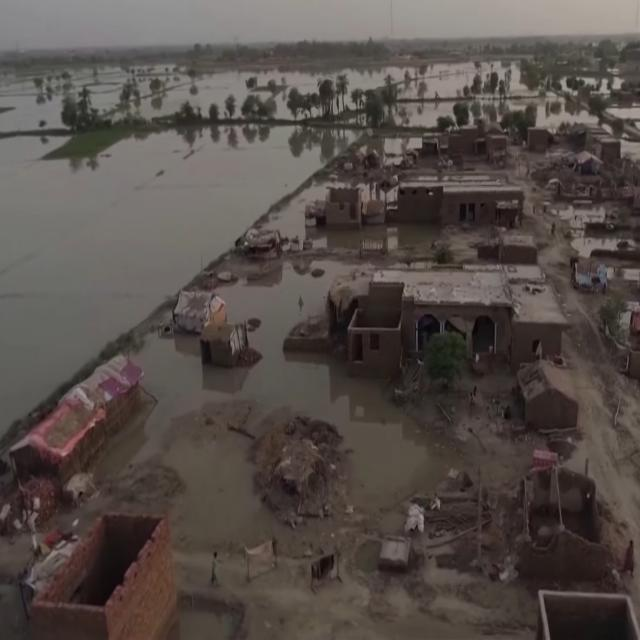flood: (0, 124, 361, 436), (95, 260, 452, 492), (0, 65, 333, 130), (345, 60, 598, 130), (265, 181, 389, 254), (172, 440, 259, 544), (382, 225, 446, 264), (395, 102, 454, 126), (446, 229, 488, 262), (370, 137, 416, 162)
house: (27, 512, 177, 640), (346, 263, 509, 377), (0, 354, 144, 480), (528, 575, 637, 640), (442, 178, 524, 228), (174, 290, 228, 334), (398, 176, 442, 223)
